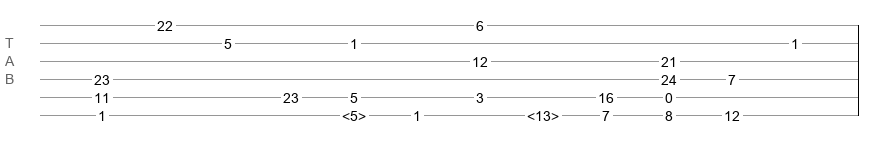0: (665, 90, 673, 100)
1: (98, 108, 106, 118), (350, 36, 358, 46), (413, 108, 421, 118), (791, 36, 799, 46)
11: (94, 90, 110, 100)
12: (472, 54, 488, 64), (724, 108, 740, 118)
16: (598, 90, 614, 100)
21: (661, 54, 677, 64)
22: (157, 18, 173, 28)
23: (94, 72, 110, 82), (283, 90, 299, 100)
24: (661, 72, 677, 82)
3: (476, 90, 484, 100)
5: (224, 36, 232, 46), (350, 90, 358, 100)
6: (476, 18, 484, 28)
7: (602, 108, 610, 118), (728, 72, 736, 82)
8: (665, 108, 673, 118)
harmonic: (527, 108, 559, 118), (342, 108, 366, 118)
